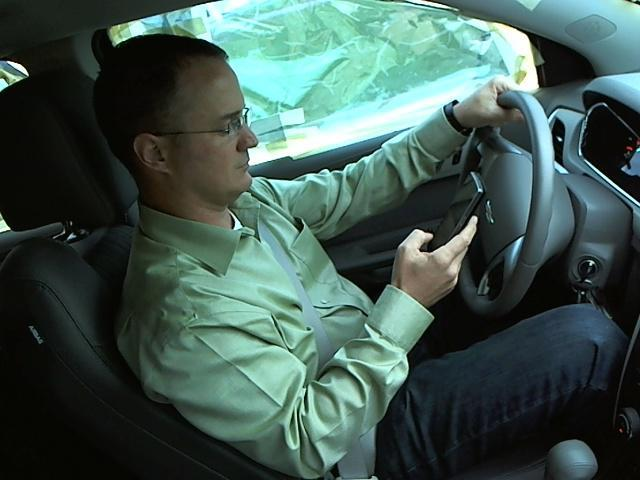PhoneUse: (428, 165, 485, 272)
